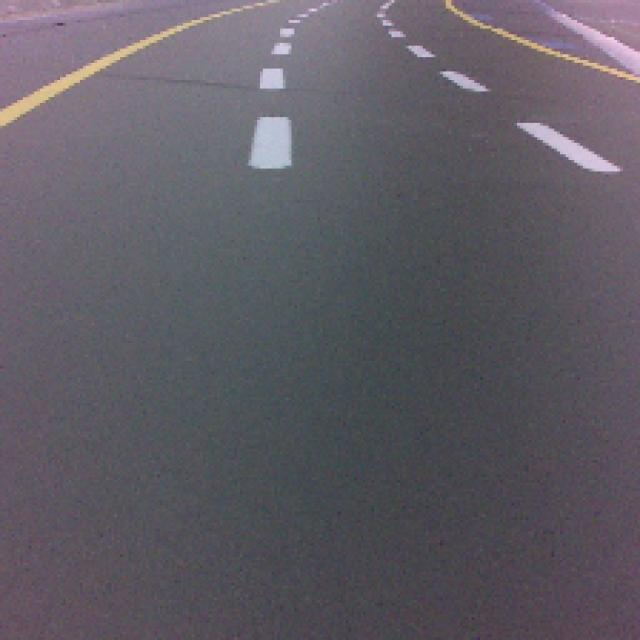Road: (0, 401, 636, 640)
